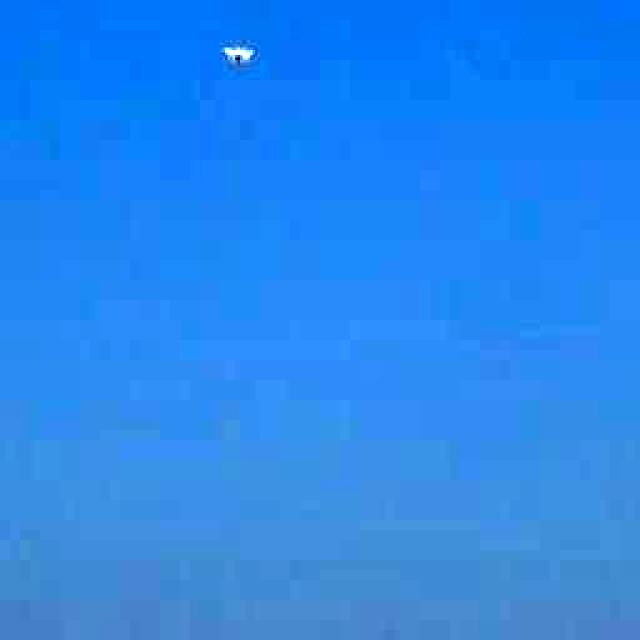bird: (192, 12, 278, 95)
